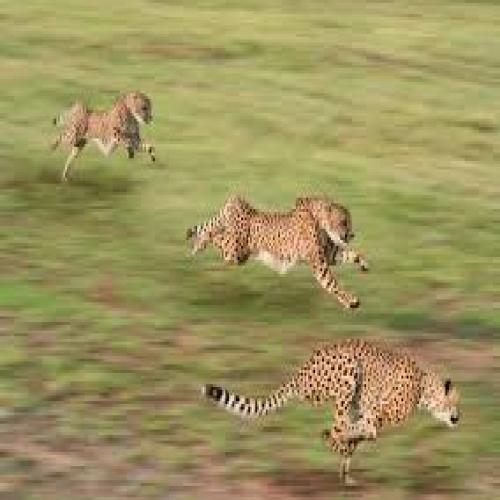cheetah-endangered: (206, 337, 459, 481), (190, 194, 370, 302), (50, 94, 152, 178)
